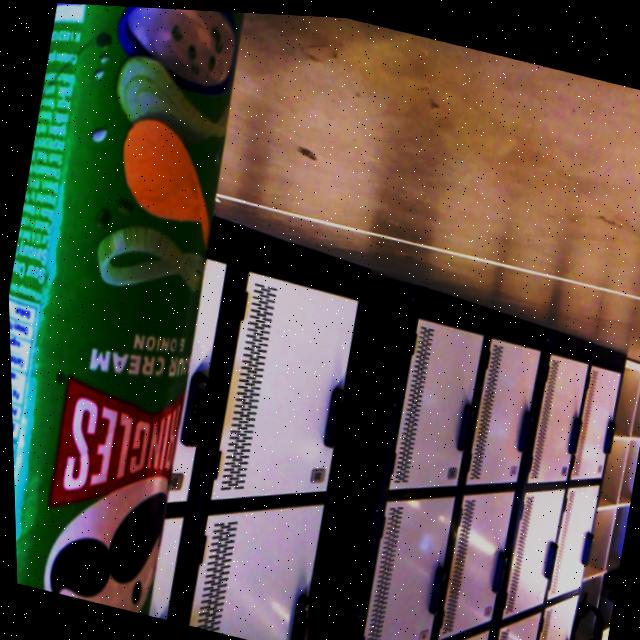greenpringles: (0, 0, 277, 622)
